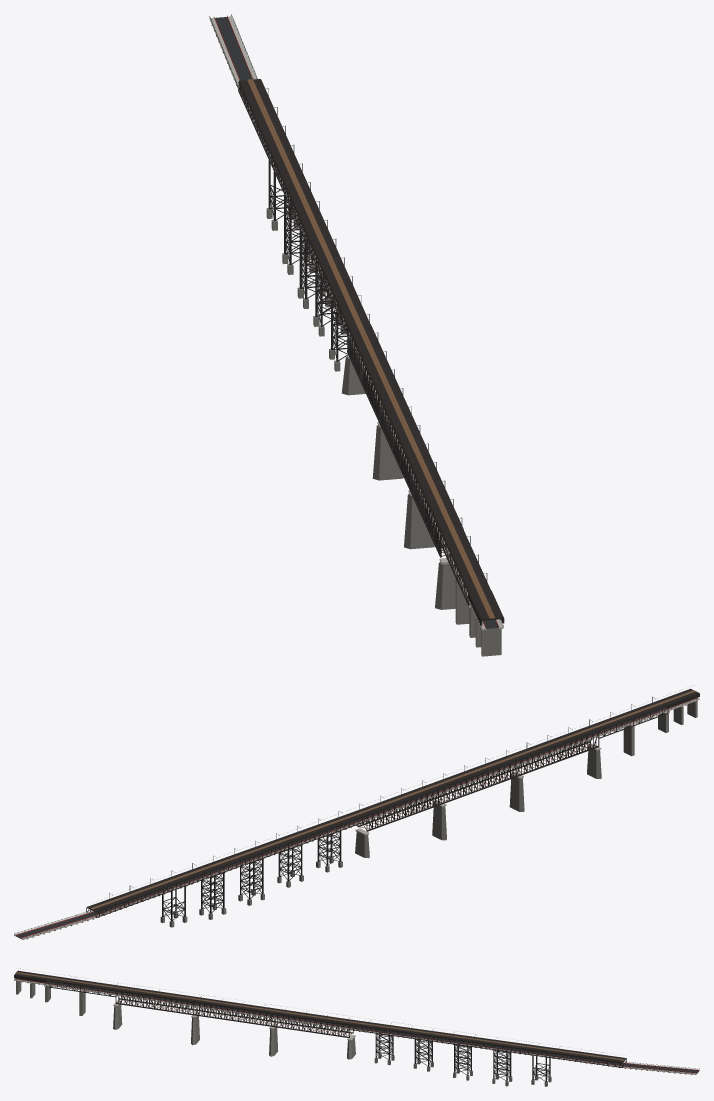
File: br_r10_high_level_1.gltf
3 views of the same model, one above another, from view 1: azimuth 30°, elevation 25°; view 2: azimuth 150°, elevation 25°; view 3: azimuth 270°, elevation 25° (orthographic). The views are drawn at different scales.
Parts seen in each view (by area): view 1: br_r10_high_level_1; view 2: br_r10_high_level_1; view 3: br_r10_high_level_1.
Part boxes in pixels (x1,y1,x2,y2): br_r10_high_level_1: (209, 14, 504, 656); br_r10_high_level_1: (14, 688, 699, 939); br_r10_high_level_1: (14, 968, 699, 1086).
Size of the model in its own units: 267 by 58.87 by 738.
